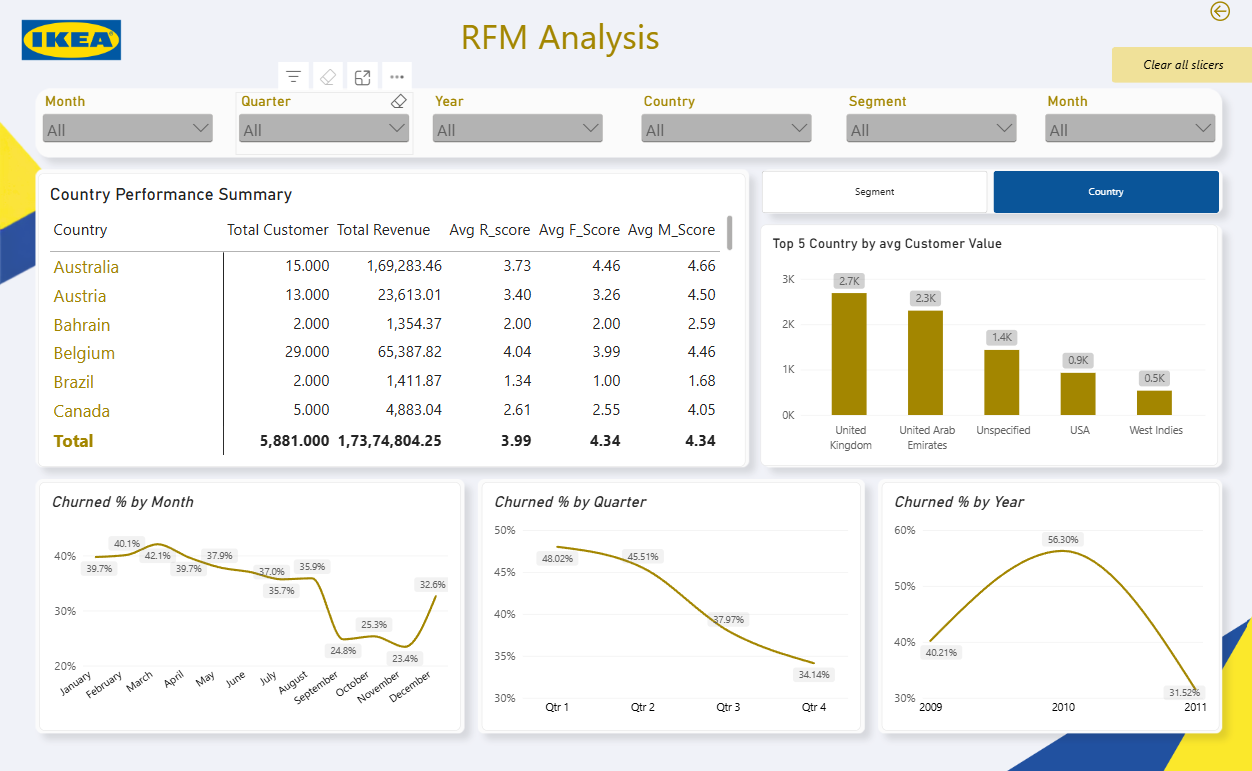

What the dashboard file says about the page in this screenshot:
{"tool":"powerbi","page":{"name":"RFM Analysis","canvas":[1920,1080],"ordinal":2},"visuals":[{"type":"slicer","fields":{"Values":["Sheet1.InvoiceDate.Variation.Date Hierarchy.Month"]},"box":[141.3,132.6,247.7,87.2],"z":0},{"type":"pivotTable","title":"Country Performance Summary","fields":{"Rows":["Sheet1.Country"],"Values":["Sheet1.Total Customer","Sheet1.Total Revenue","Avg(Sheet1.R_Score)","Avg(Sheet1.F_Score)","Avg(Sheet1.M_Score)"]},"box":[140.3,246.8,986.9,409.9],"z":0},{"type":"areaChart","fields":{"Category":["Sheet1.InvoiceDate.Variation.Date Hierarchy.Month"],"Y":["Sheet1.Churned %"]},"box":[141.3,676.7,587.8,347.1],"z":0,"group":"g1"},{"type":"slicer","fields":{"Values":["Sheet1.InvoiceDate.Variation.Date Hierarchy.Quarter"]},"box":[415.1,132.6,247.7,87.2],"z":1000},{"type":"clusteredColumnChart","title":"Top 5 Country by avg Customer Value","fields":{"Category":["Sheet1.Country"],"Y":["Sheet1.Avg Customer Value"]},"box":[1148.1,316.9,638.4,336.6],"z":1000},{"type":"areaChart","fields":{"Category":["Sheet1.InvoiceDate.Variation.Date Hierarchy.Quarter"],"Y":["Sheet1.Churned %"]},"box":[758.7,676.7,528.5,347.1],"z":1000,"group":"g1"},{"type":"slicer","fields":{"Values":["Sheet1.InvoiceDate.Variation.Date Hierarchy.Year"]},"box":[685.5,132.6,247.7,87.2],"z":2000},{"type":"areaChart","fields":{"Category":["Sheet1.InvoiceDate.Variation.Date Hierarchy.Year"],"Y":["Sheet1.Churned %"]},"box":[1316.9,676.7,470.9,347.1],"z":2000,"group":"g1"},{"type":"slicer","fields":{"Values":["Sheet1.Country"]},"box":[976.7,132.6,247.7,87.2],"z":3000},{"type":"slicer","fields":{"Values":["Sheet1.Segment"]},"box":[1262.8,132.6,247.7,87.2],"z":4000},{"type":"slicer","fields":{"Values":["Sheet1.InvoiceDate.Variation.Date Hierarchy.Month"]},"box":[1540.1,132.6,247.7,87.2],"z":5000},{"type":"group","id":"g1","title":"Revenue","box":[141.3,676.7,1646.5,347.1],"z":7000},{"type":"image","box":[86.7,0,198.3,120],"z":8000},{"type":"textbox","box":[729.1,20.9,433.3,75],"z":9000},{"type":"actionButton","box":[1738.3,0,100,40],"z":10000},{"type":"actionButton","box":[1638.3,70,200,50],"z":11000},{"type":"bookmarkNavigator","box":[1148.8,242.1,638.6,59.6],"z":12000}]}

Visuals, with their boxes on the page's 1920x1080 design canvas (x1, y1, x2, y2). These are canvas units, not pixel positions in the 1252x771 screenshot, which may show the page scaled, cropped or inside an application window:
slicer - Sheet1.InvoiceDate.Variation.Date Hierarchy.Month: (141, 133, 389, 220)
"Country Performance Summary" pivotTable: (140, 247, 1127, 657)
areaChart - Sheet1.InvoiceDate.Variation.Date Hierarchy.Month x Sheet1.Churned %: (141, 677, 729, 1024)
slicer - Sheet1.InvoiceDate.Variation.Date Hierarchy.Quarter: (415, 133, 663, 220)
"Top 5 Country by avg Customer Value" clusteredColumnChart: (1148, 317, 1786, 654)
areaChart - Sheet1.InvoiceDate.Variation.Date Hierarchy.Quarter x Sheet1.Churned %: (759, 677, 1287, 1024)
slicer - Sheet1.InvoiceDate.Variation.Date Hierarchy.Year: (686, 133, 933, 220)
areaChart - Sheet1.InvoiceDate.Variation.Date Hierarchy.Year x Sheet1.Churned %: (1317, 677, 1788, 1024)
slicer - Sheet1.Country: (977, 133, 1224, 220)
slicer - Sheet1.Segment: (1263, 133, 1510, 220)
slicer - Sheet1.InvoiceDate.Variation.Date Hierarchy.Month: (1540, 133, 1788, 220)
"Revenue" group: (141, 677, 1788, 1024)
image: (87, 0, 285, 120)
textbox: (729, 21, 1162, 96)
actionButton: (1738, 0, 1838, 40)
actionButton: (1638, 70, 1838, 120)
bookmarkNavigator: (1149, 242, 1787, 302)
